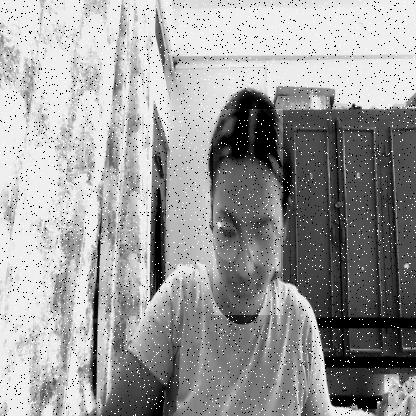Distracted: (214, 109, 284, 315)
